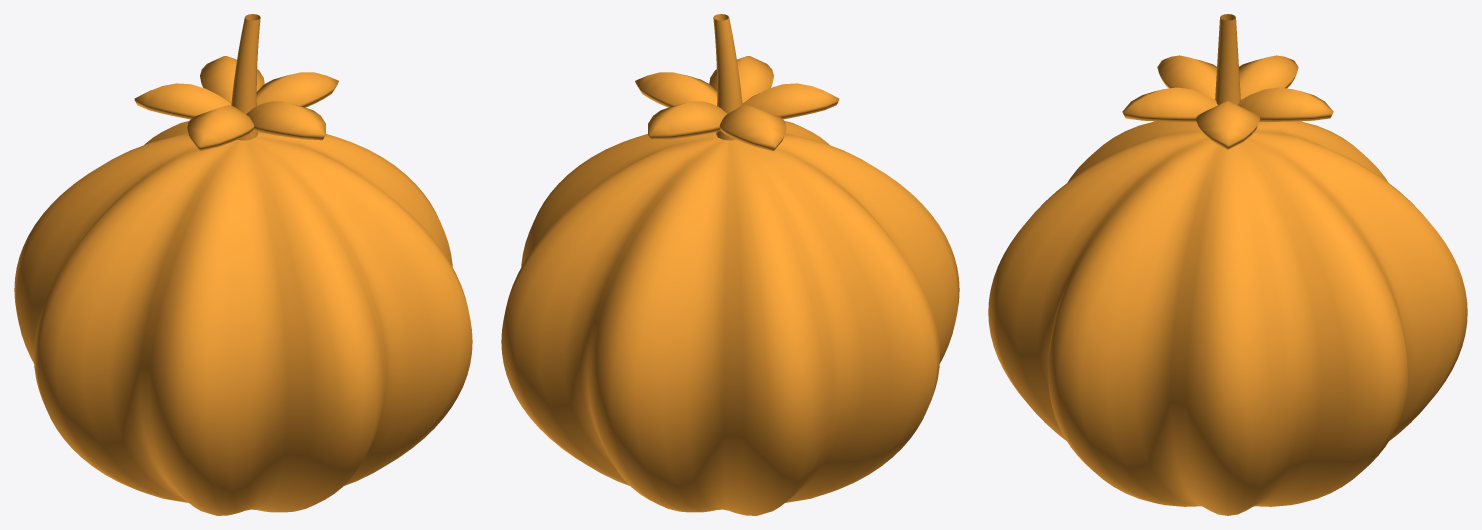
File: Force.fbx
The picture shows the model from 3 angles, left to right: view 1: azimuth 30°, elevation 25°; view 2: azimuth 150°, elevation 25°; view 3: azimuth 270°, elevation 25°; orthographic projection.
Visible parts, largest first — view 1: Force Fruit; view 2: Force Fruit; view 3: Force Fruit.
Part boxes in pixels (x1,y1,x2,y2): Force Fruit: (14, 14, 472, 515); Force Fruit: (501, 14, 959, 515); Force Fruit: (988, 14, 1467, 515).
Bounding box in the file's own units: 90 × 100 × 90.
